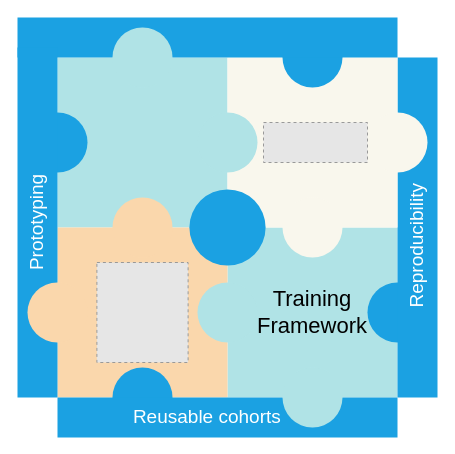
Some shapes in this 455 by 454 pixel diagram are drawn without their labels. Grey dashed boxes stand in for pictures. Here are the shapes that lost their labels. From the top down, the box of each, then its label:
(57, 57, 227, 227): Service Builder
(189, 189, 265, 265): DPM 360
